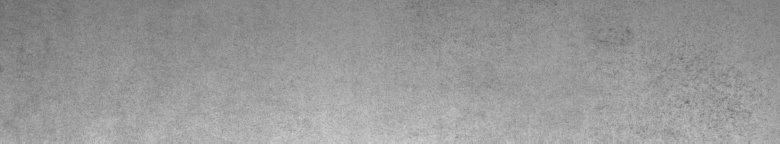ib: (592, 29, 744, 118)
